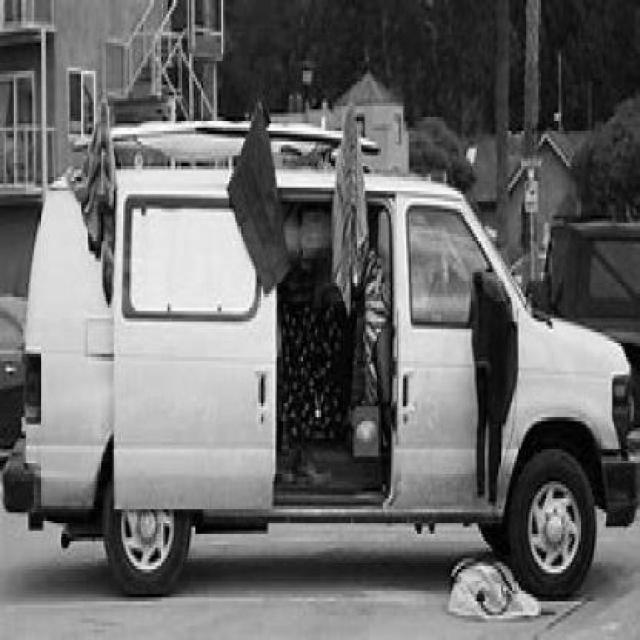Van: (1, 115, 640, 604)
